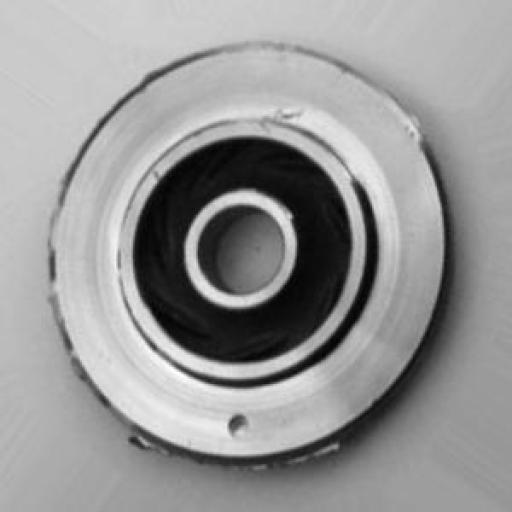defect: (29, 29, 384, 478)
